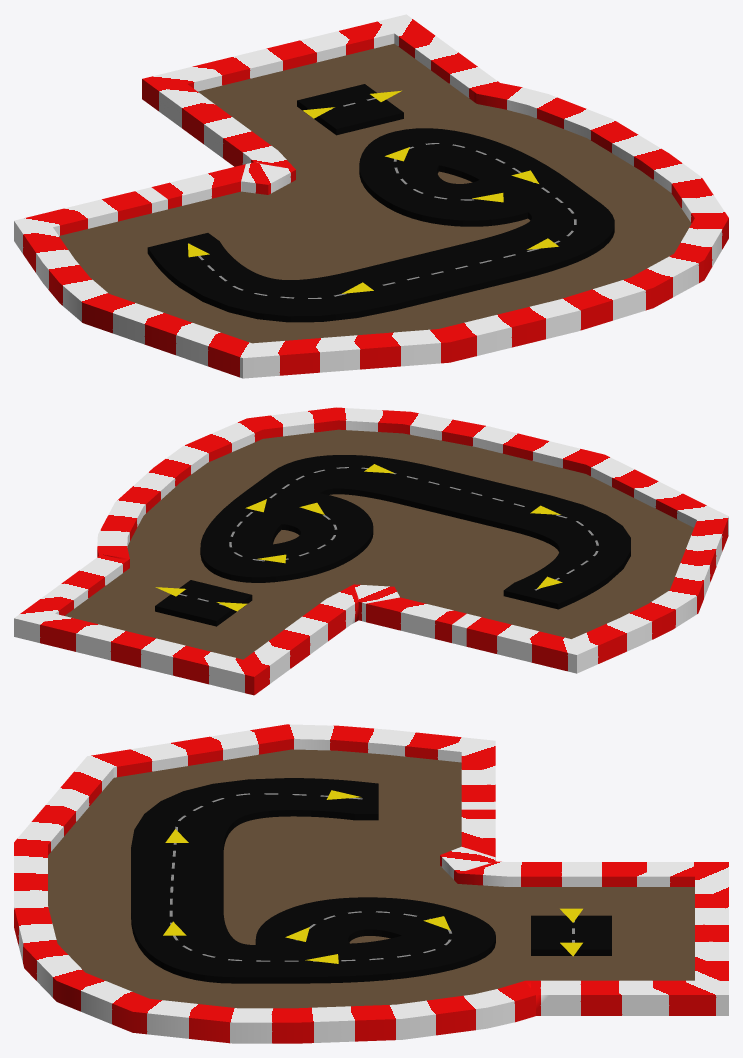
The model's file is feh.FBX.
The picture shows the model from 3 angles, top to bottom: view 1: azimuth 30°, elevation 25°; view 2: azimuth 150°, elevation 25°; view 3: azimuth 270°, elevation 25°; orthographic projection. The views are drawn at different scales.
Visible parts, largest first — view 1: fa2_floor, fa2_coll, fa2, line0; view 2: fa2_floor, fa2_coll, fa2, line0; view 3: fa2_floor, fa2_coll, fa2, line0.
Part boxes in pixels (bbox=[...]): fa2_floor: bbox=[59, 43, 691, 343]; fa2_coll: bbox=[14, 14, 728, 378]; fa2: bbox=[147, 84, 614, 322]; line0: bbox=[189, 143, 576, 298]; fa2_floor: bbox=[65, 429, 693, 659]; fa2_coll: bbox=[14, 407, 728, 695]; fa2: bbox=[155, 455, 630, 626]; line0: bbox=[229, 467, 598, 590]; fa2_floor: bbox=[48, 749, 694, 1008]; fa2_coll: bbox=[14, 724, 728, 1043]; fa2: bbox=[131, 778, 611, 983]; line0: bbox=[169, 793, 451, 961].
Size of the model in its own units: 996 by 32.76 by 1009.
